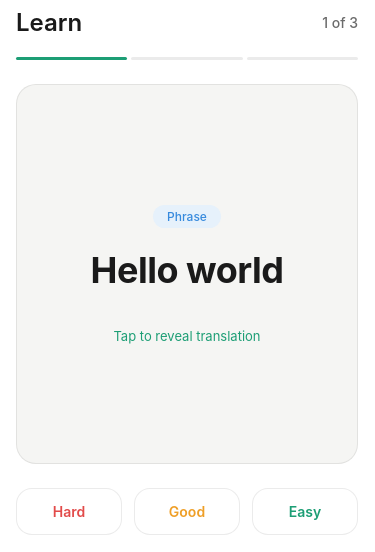
Test: LearnScreen — navigation (no review API calls) › advances to next card after pressing Hard
Expected: the text "Hello world" is shown, [91,248,283,292]
Click the text "Hard" at x=69, y=512, box [53,503,85,520]
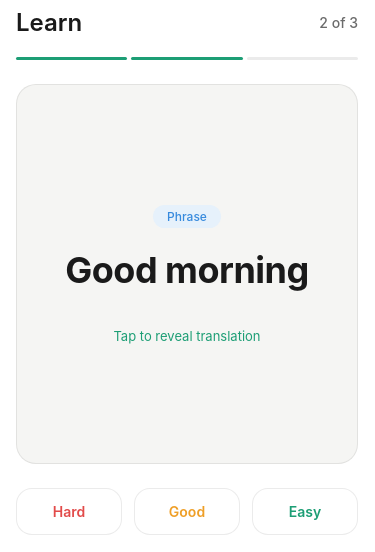
Now the text "Good morning" is shown, box [65,248,309,292]
